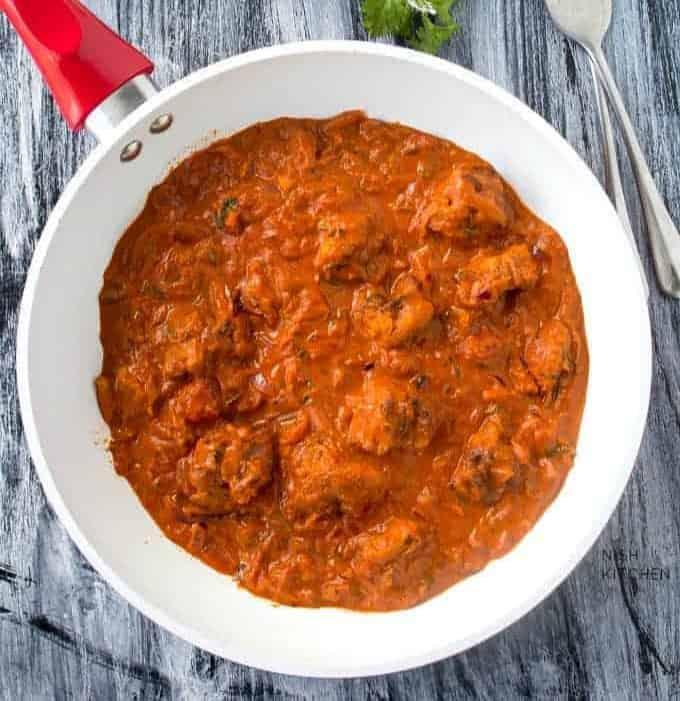chicken: (76, 113, 624, 610)
